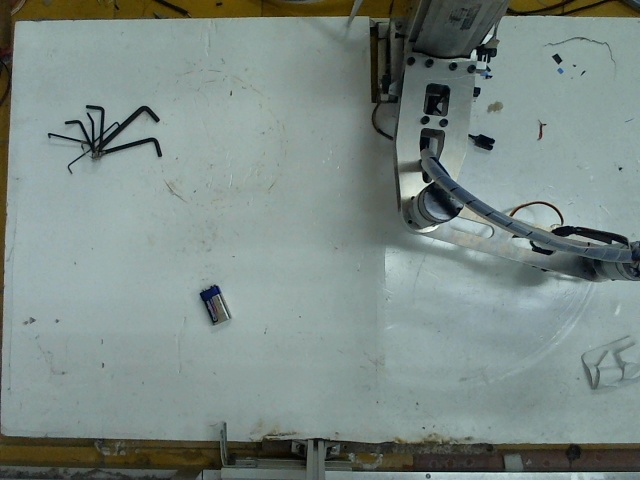battery: (194, 285, 235, 328)
